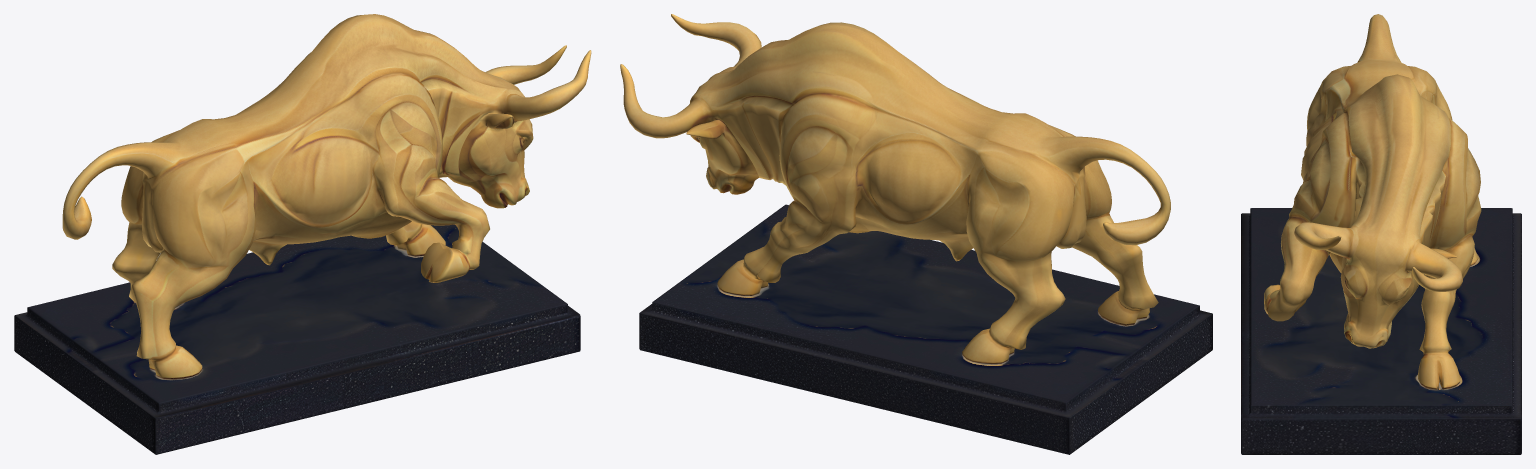
The model's file is tripo_convert_e78ada8f-8434-4261-b687-6c9c513d2cba.fbx.
3 views of the same model, side by side, from view 1: azimuth 30°, elevation 25°; view 2: azimuth 150°, elevation 25°; view 3: azimuth 270°, elevation 25° (orthographic). The views are drawn at different scales.
Parts seen in each view (by area): view 1: tripo_node_e78ada8f; view 2: tripo_node_e78ada8f; view 3: tripo_node_e78ada8f.
Part boxes in pixels (<box>): tripo_node_e78ada8f: <box>14,14,591,454</box>; tripo_node_e78ada8f: <box>620,14,1212,454</box>; tripo_node_e78ada8f: <box>1241,14,1521,454</box>.
Size of the model in its own units: 0.9995 by 0.5708 by 0.4692.
1 material, 1 textured.
